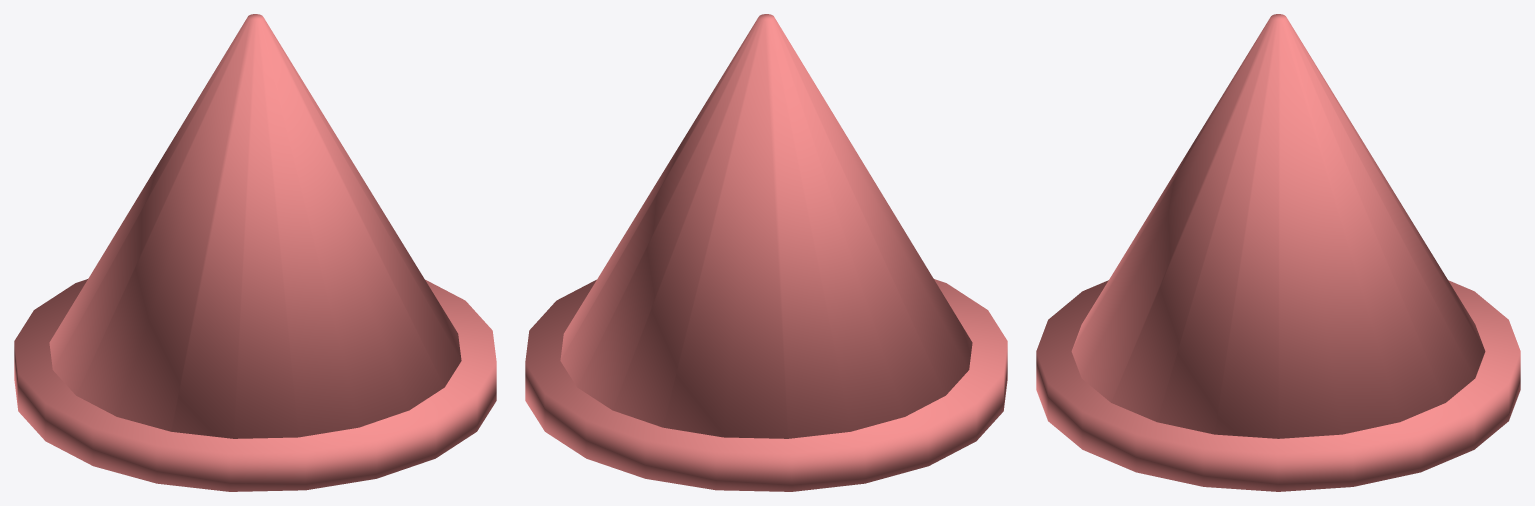
File: gnome_hat.fbx
3 renders of one model, left to right at view 1: azimuth 30°, elevation 25°; view 2: azimuth 150°, elevation 25°; view 3: azimuth 270°, elevation 25°, orthographic.
Visible parts, largest first — view 1: gnome_hat; view 2: gnome_hat; view 3: gnome_hat.
Part boxes in pixels (left/top/right/bottom): gnome_hat: left=14, top=14, right=496, bottom=491; gnome_hat: left=525, top=14, right=1007, bottom=491; gnome_hat: left=1036, top=14, right=1520, bottom=491.
Bounding box in the file's own units: 184 × 156 × 184.
